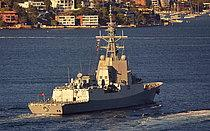MIL_Ship: (26, 4, 164, 115)
